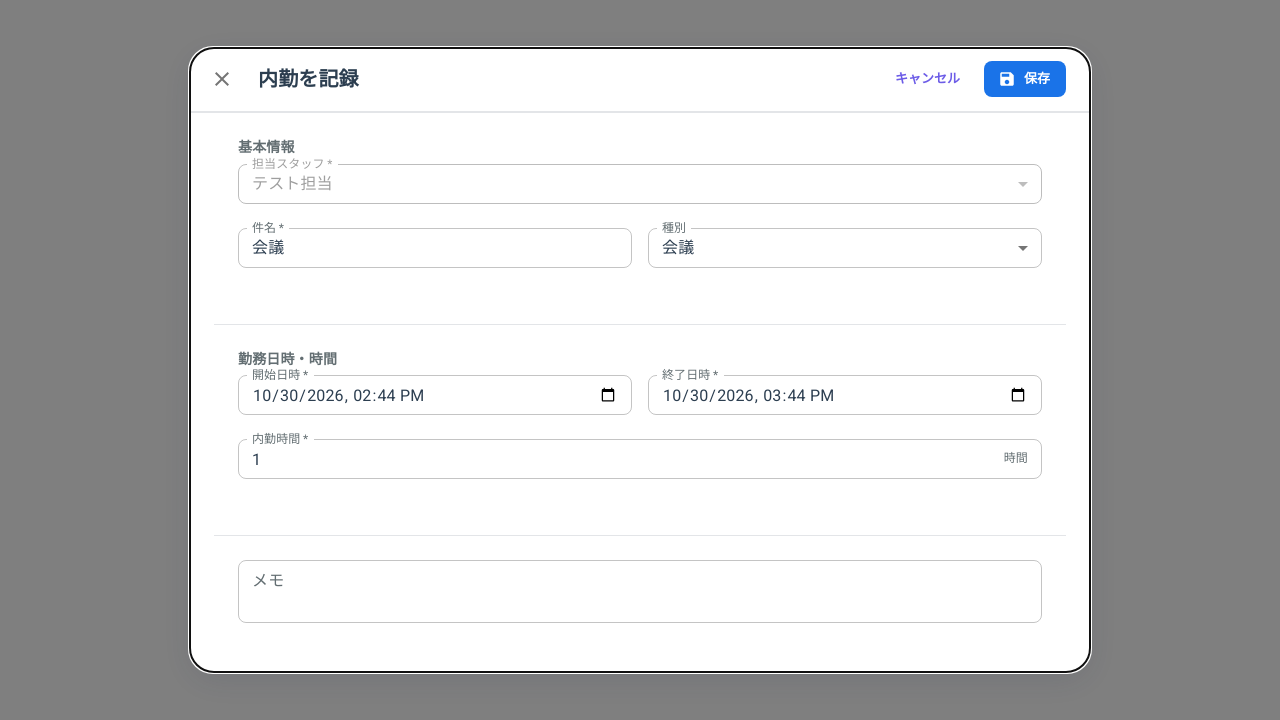
Scenario: keeps internal-work input after a classified FORBIDDEN result
Type "保持するメモ" into the text box labelled "メモ" at (640, 592), box [252,569,1028,615]
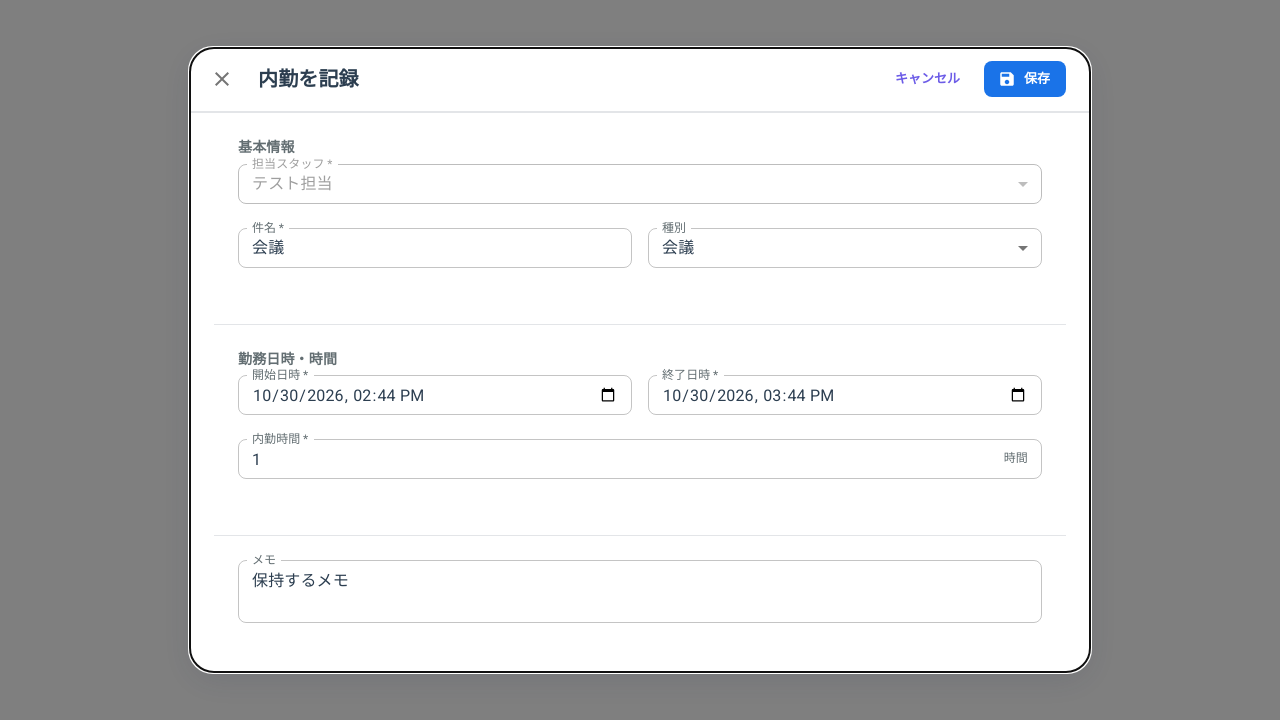
Click the button "保存" at (1025, 79), box [984,61,1066,97]
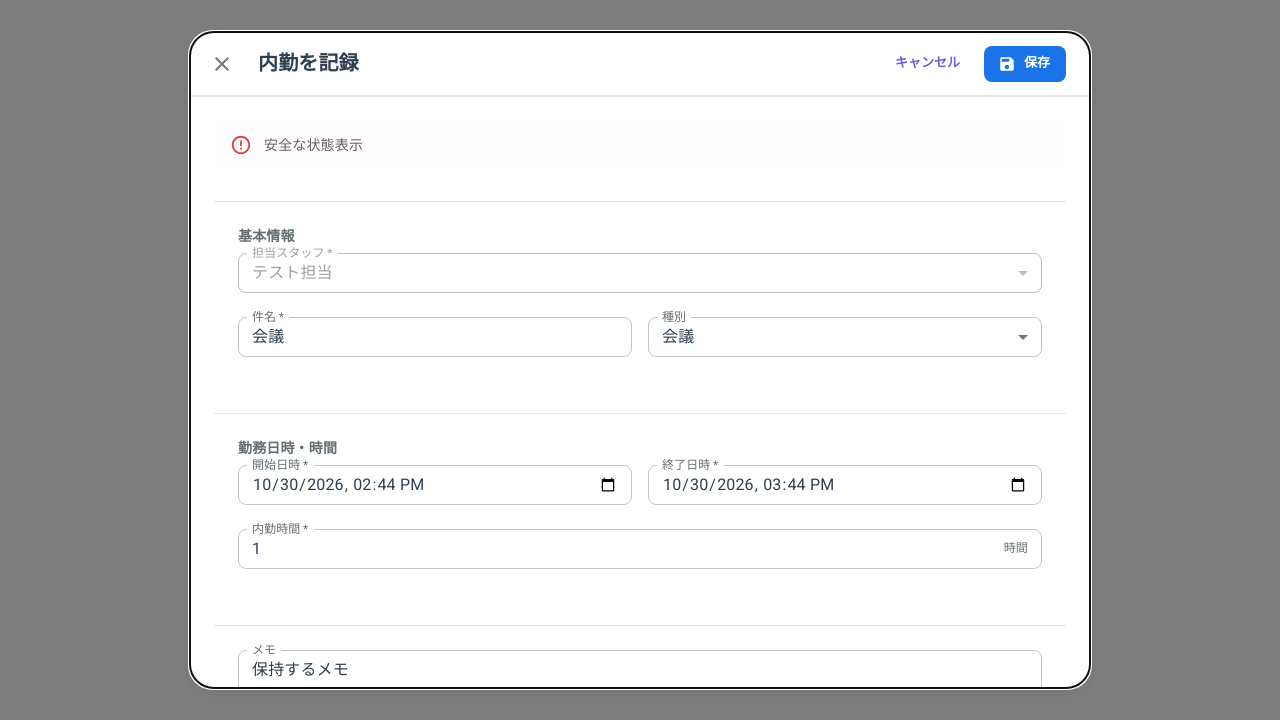
Now the message reads "安全な状態表示", box [264,137,363,153]
